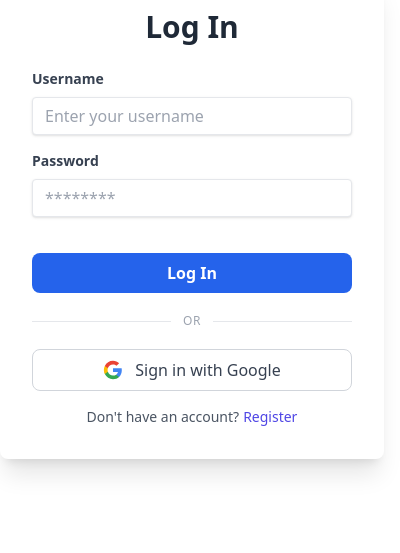
Test: LoginForm › displays error message on invalid credentials
Type "wronguser" into the field labelled "Username" at (192, 116), box x1=32 y1=97 x2=352 y2=135
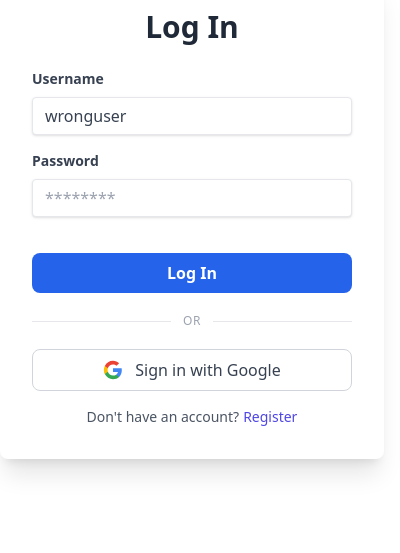
Type "wrongpass" into the password field labelled "Password" at (192, 198), box x1=32 y1=179 x2=352 y2=217
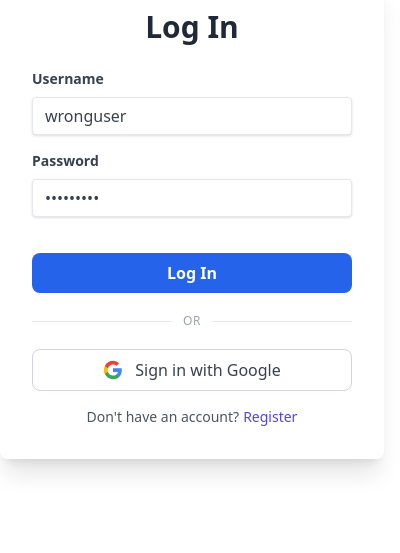
Click the button "Log In" at (192, 273), box x1=32 y1=253 x2=352 y2=293
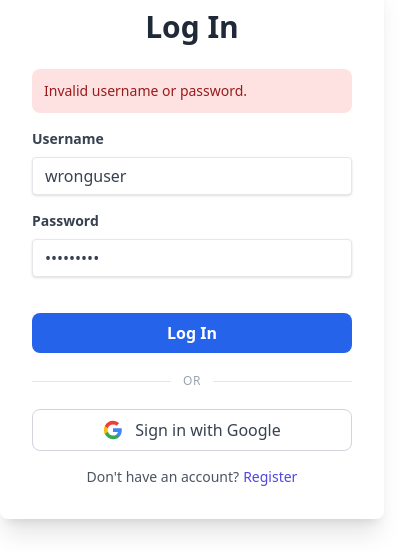
Check: the text "Invalid username or password." is shown, box x1=32 y1=69 x2=352 y2=113
